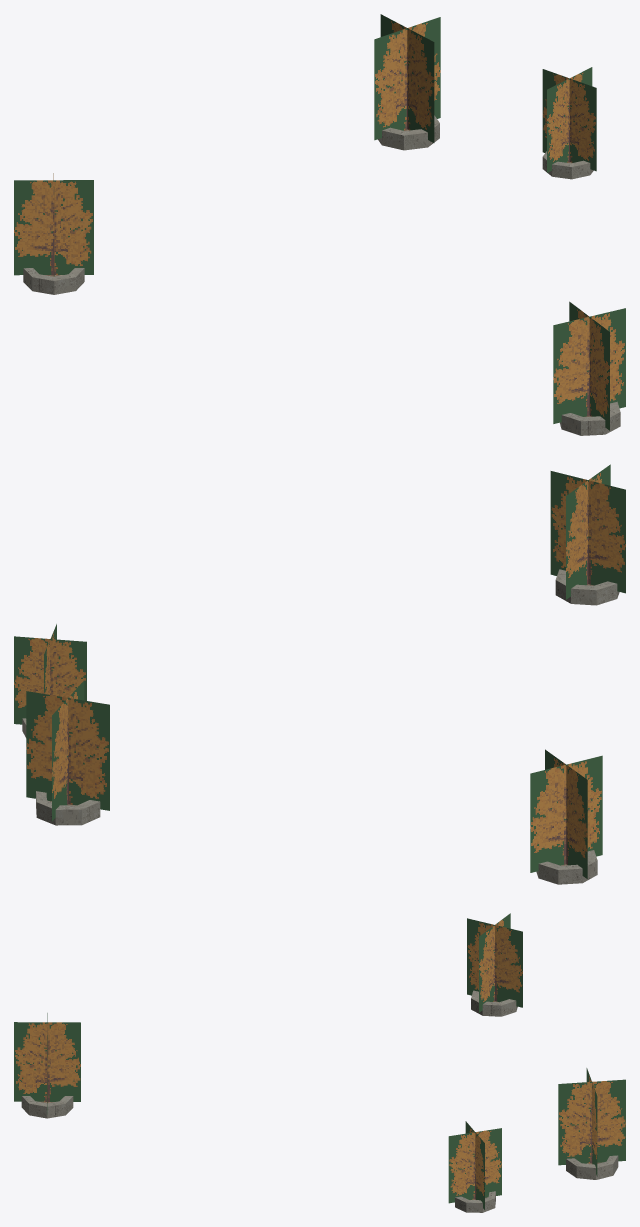
File: procgen-procpain-tree-park-large-x0zm2.obj
3 renders of one model, top to bottom at view 1: azimuth 30°, elevation 25°; view 2: azimuth 150°, elevation 25°; view 3: azimuth 270°, elevation 25°, orthographic. The views are drawn at different scales.
Size of the model in its own units: 41.23 by 7.61 by 48.35.
